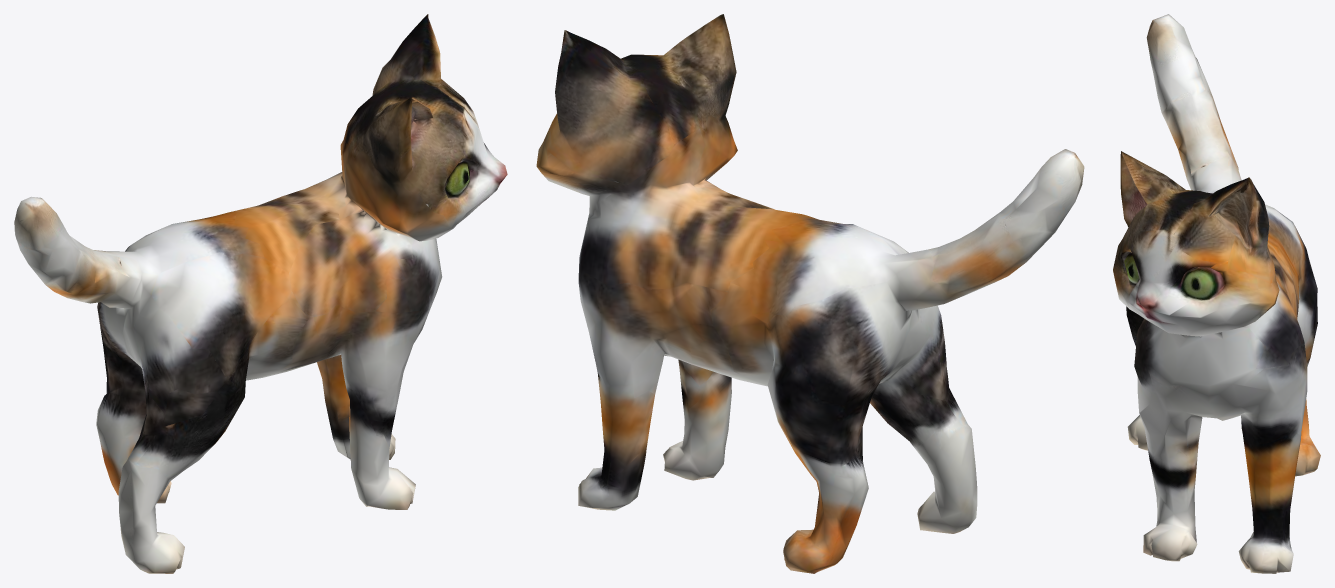
Rendered from PATCHPAW-lo.glb.
3 views of the same model, side by side, from view 1: azimuth 30°, elevation 25°; view 2: azimuth 150°, elevation 25°; view 3: azimuth 270°, elevation 25° (orthographic). The views are drawn at different scales.
Visible parts, largest first — view 1: fit; view 2: fit; view 3: fit.
Part boxes in pixels (box(x1,y1,x2,y2)): fit: box(14, 14, 507, 573); fit: box(536, 14, 1084, 573); fit: box(1113, 14, 1320, 573).
Bounding box in the file's own units: 1.15 × 0.9986 × 0.455.
1 material, 1 textured.
